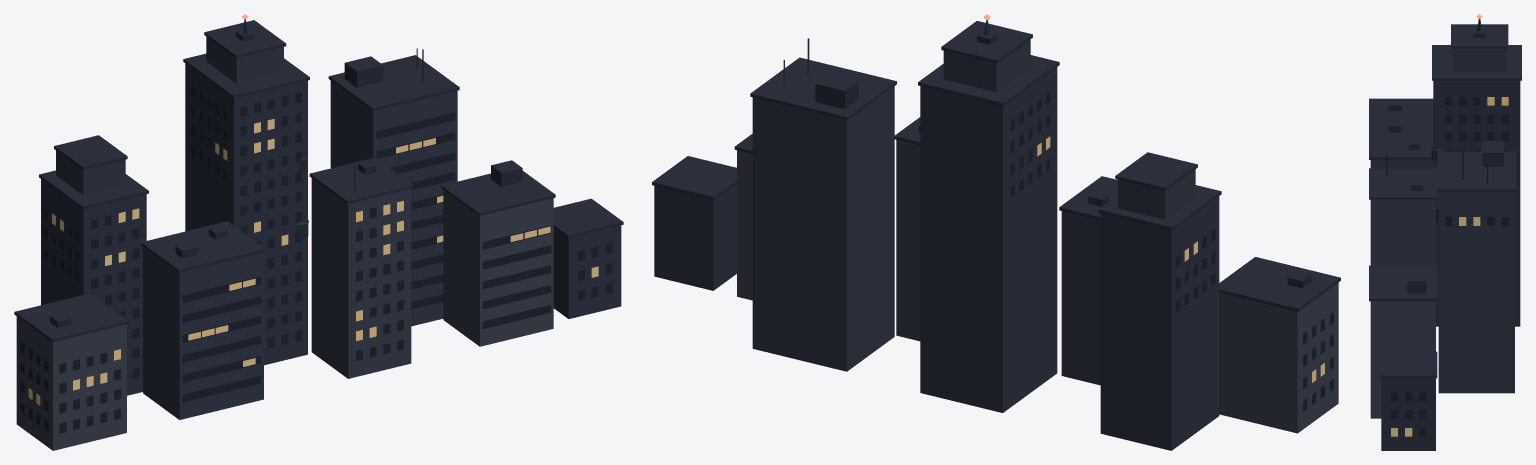
File: World_SkylineA.fbx
The picture shows the model from 3 angles, left to right: view 1: azimuth 30°, elevation 25°; view 2: azimuth 150°, elevation 25°; view 3: azimuth 270°, elevation 25°; orthographic projection. The views are drawn at different scales.
Visible parts, largest first — view 1: Walls0, Walls1, Roofs, Walls3, WindowsDark, Walls2, Windows; view 2: Walls0, Walls1, Roofs, Walls3, Walls2, WindowsDark; view 3: Roofs, Walls1, Walls0, Walls2, Walls3, WindowsDark, Windows.
Boxes of the visible parts, x1=… form: Walls0: x1=41, y1=63, x2=621, y2=395; Walls1: x1=56, y1=37, x2=457, y2=419; Roofs: x1=14, y1=19, x2=623, y2=342; Walls3: x1=16, y1=190, x2=553, y2=450; WindowsDark: x1=20, y1=86, x2=612, y2=433; Walls2: x1=311, y1=178, x2=411, y2=378; Windows: x1=28, y1=118, x2=598, y2=405; Walls0: x1=654, y1=67, x2=1219, y2=450; Walls1: x1=752, y1=39, x2=1195, y2=385; Roofs: x1=652, y1=20, x2=1340, y2=311; Walls3: x1=737, y1=150, x2=1338, y2=433; Walls2: x1=896, y1=140, x2=920, y2=341; WindowsDark: x1=1010, y1=92, x2=1333, y2=411; Roofs: x1=1369, y1=19, x2=1521, y2=378; Walls1: x1=1370, y1=48, x2=1514, y2=393; Walls0: x1=1381, y1=80, x2=1520, y2=450; Walls2: x1=1370, y1=199, x2=1435, y2=265; Walls3: x1=1370, y1=301, x2=1435, y2=418; WindowsDark: x1=1391, y1=97, x2=1508, y2=436; Windows: x1=1391, y1=97, x2=1508, y2=436.
Bounding box in the file's own units: 10950 × 5997 × 2800.
